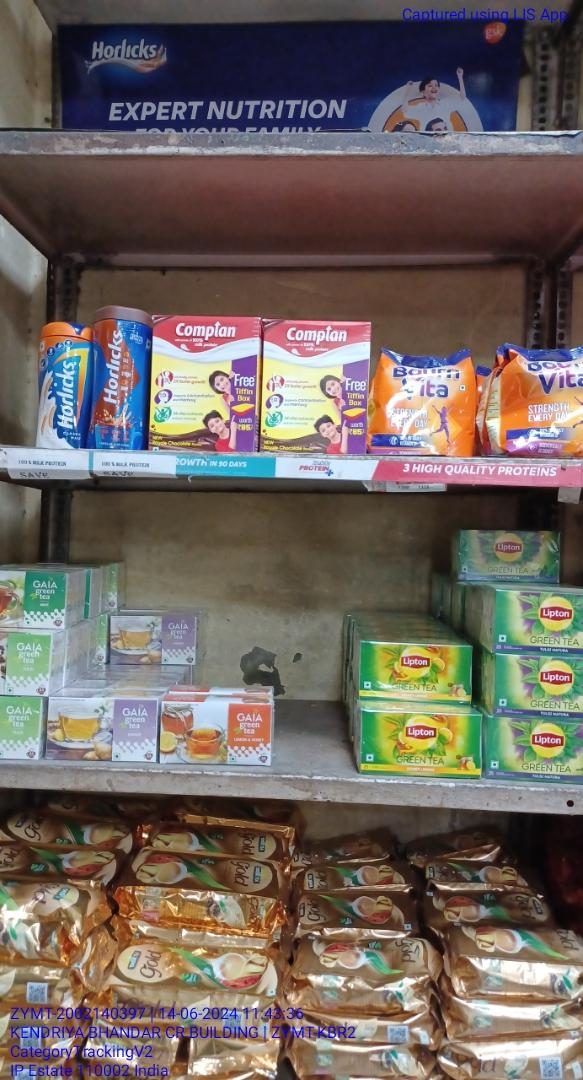BOURN_VITA_500_G_POUCH: (372, 345, 475, 455), (497, 340, 583, 458)
COMPLAN_CHOCOLATE_500_GMS_PACK: (152, 315, 259, 451), (265, 318, 364, 450)
HORLICK_CHOCOLATE_500_G_JAR: (92, 307, 145, 446)
HORLICK_CLASSIC_MALT_500_G_JAR: (39, 317, 82, 449)
